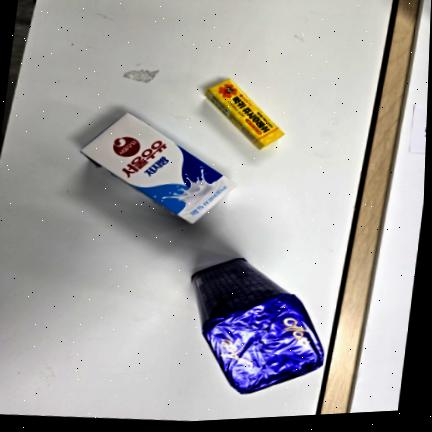cracker_ace: (192, 259, 323, 394)
gum_yellow: (206, 79, 284, 149)
milk_blue: (81, 113, 236, 224)
